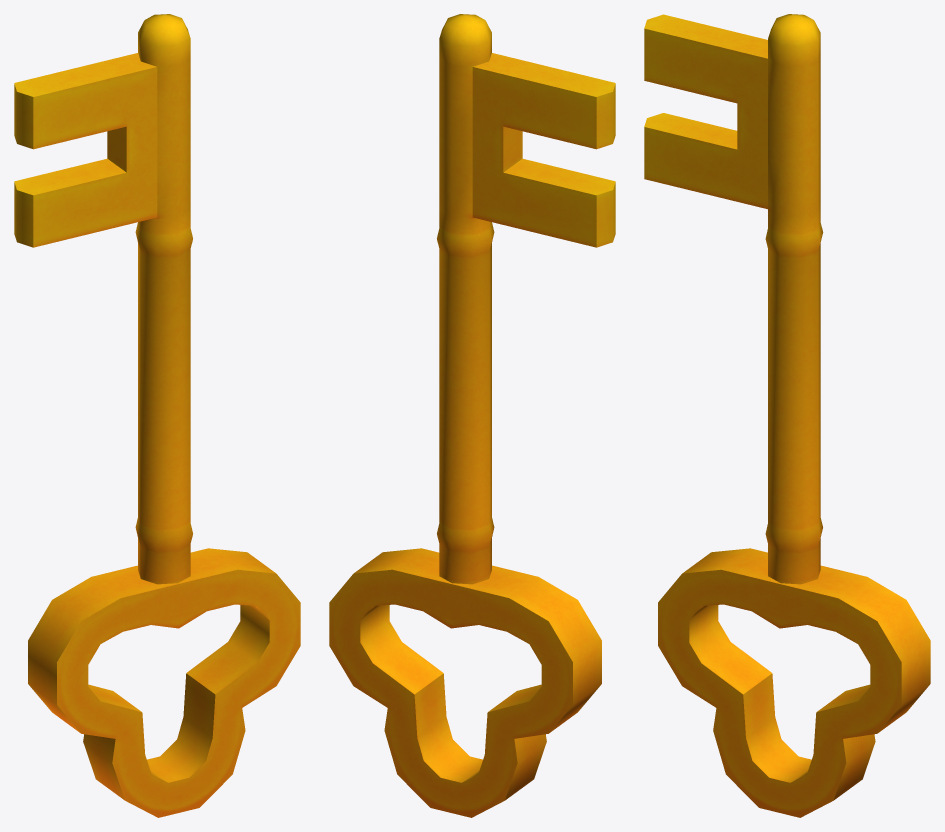
File: key.fbx
3 renders of one model, left to right at view 1: azimuth 30°, elevation 25°; view 2: azimuth 150°, elevation 25°; view 3: azimuth 330°, elevation 25°, orthographic.
Parts seen in each view (by area): view 1: Key_Key_0; view 2: Key_Key_0; view 3: Key_Key_0.
Boxes of the visible parts, x1,y1,x2,y2 form: Key_Key_0: (14, 14, 300, 817); Key_Key_0: (329, 14, 615, 817); Key_Key_0: (644, 14, 930, 817).
Size of the model in its own units: 3973 by 11091 by 762.
1 material, 1 textured.
